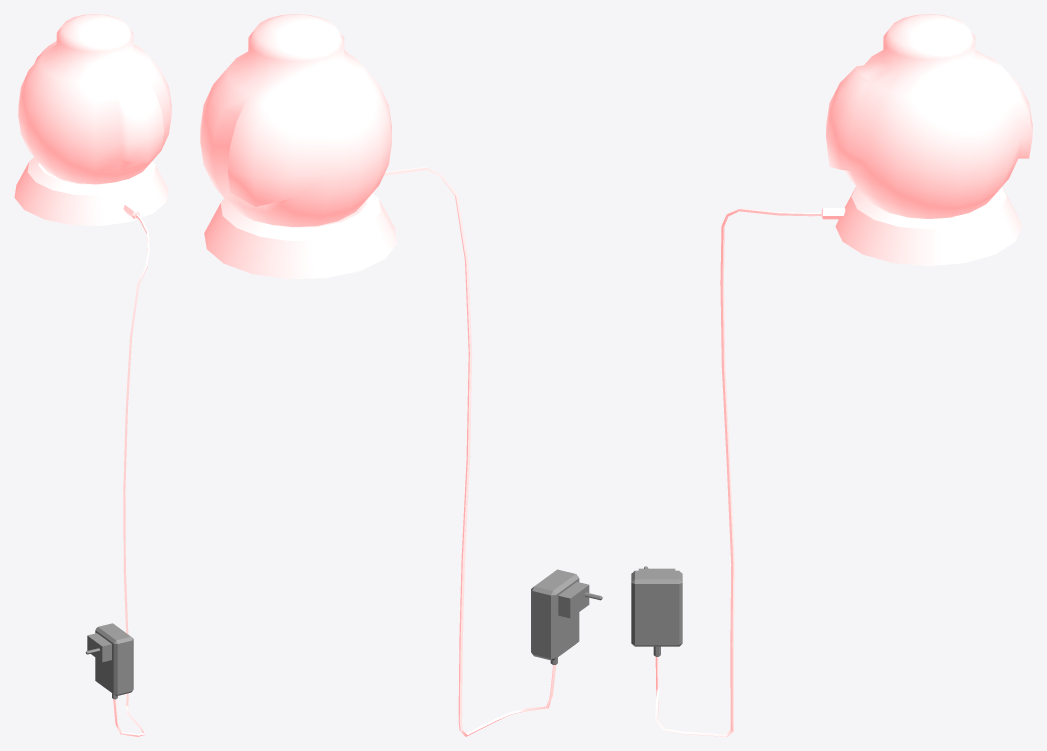
The model's file is SM_Room_LightBlob.fbx.
3 renders of one model, left to right at view 1: azimuth 30°, elevation 25°; view 2: azimuth 150°, elevation 25°; view 3: azimuth 270°, elevation 25°, orthographic. The views are drawn at different scales.
Parts seen in each view (by area): view 1: Light_Blob; view 2: Light_Blob; view 3: Light_Blob.
Boxes of the visible parts, box(x1,y1,x2,y2) form: Light_Blob: box(14, 14, 171, 736); Light_Blob: box(200, 14, 602, 736); Light_Blob: box(631, 14, 1032, 736).
Bounding box in the file's own units: 0.5752 × 1.76 × 0.8577.
